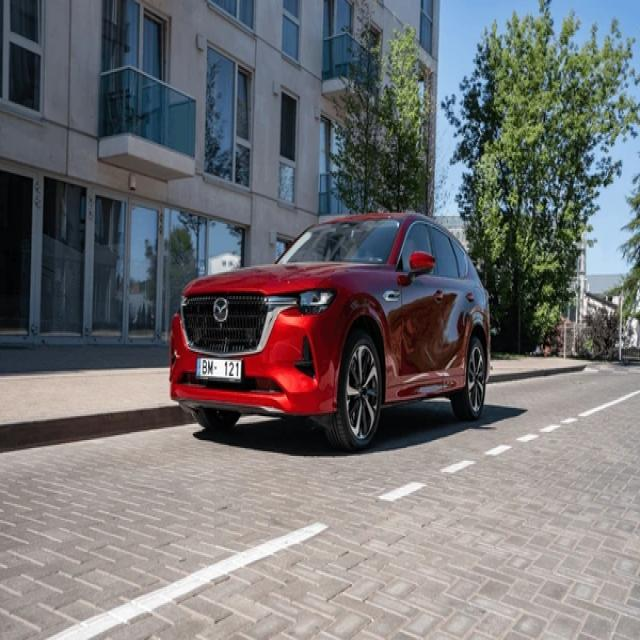mazda: (212, 296, 230, 326)
